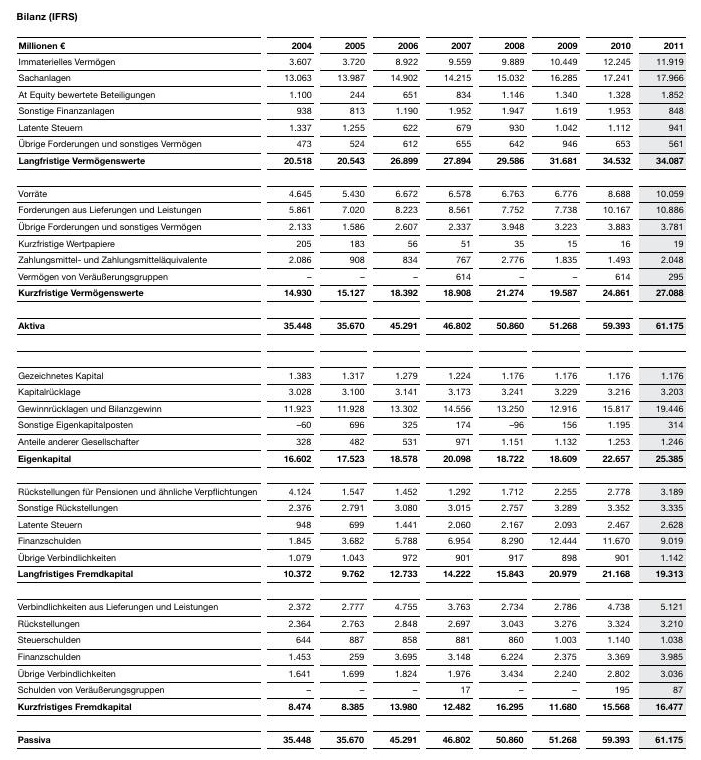table: (0, 0, 701, 760)
